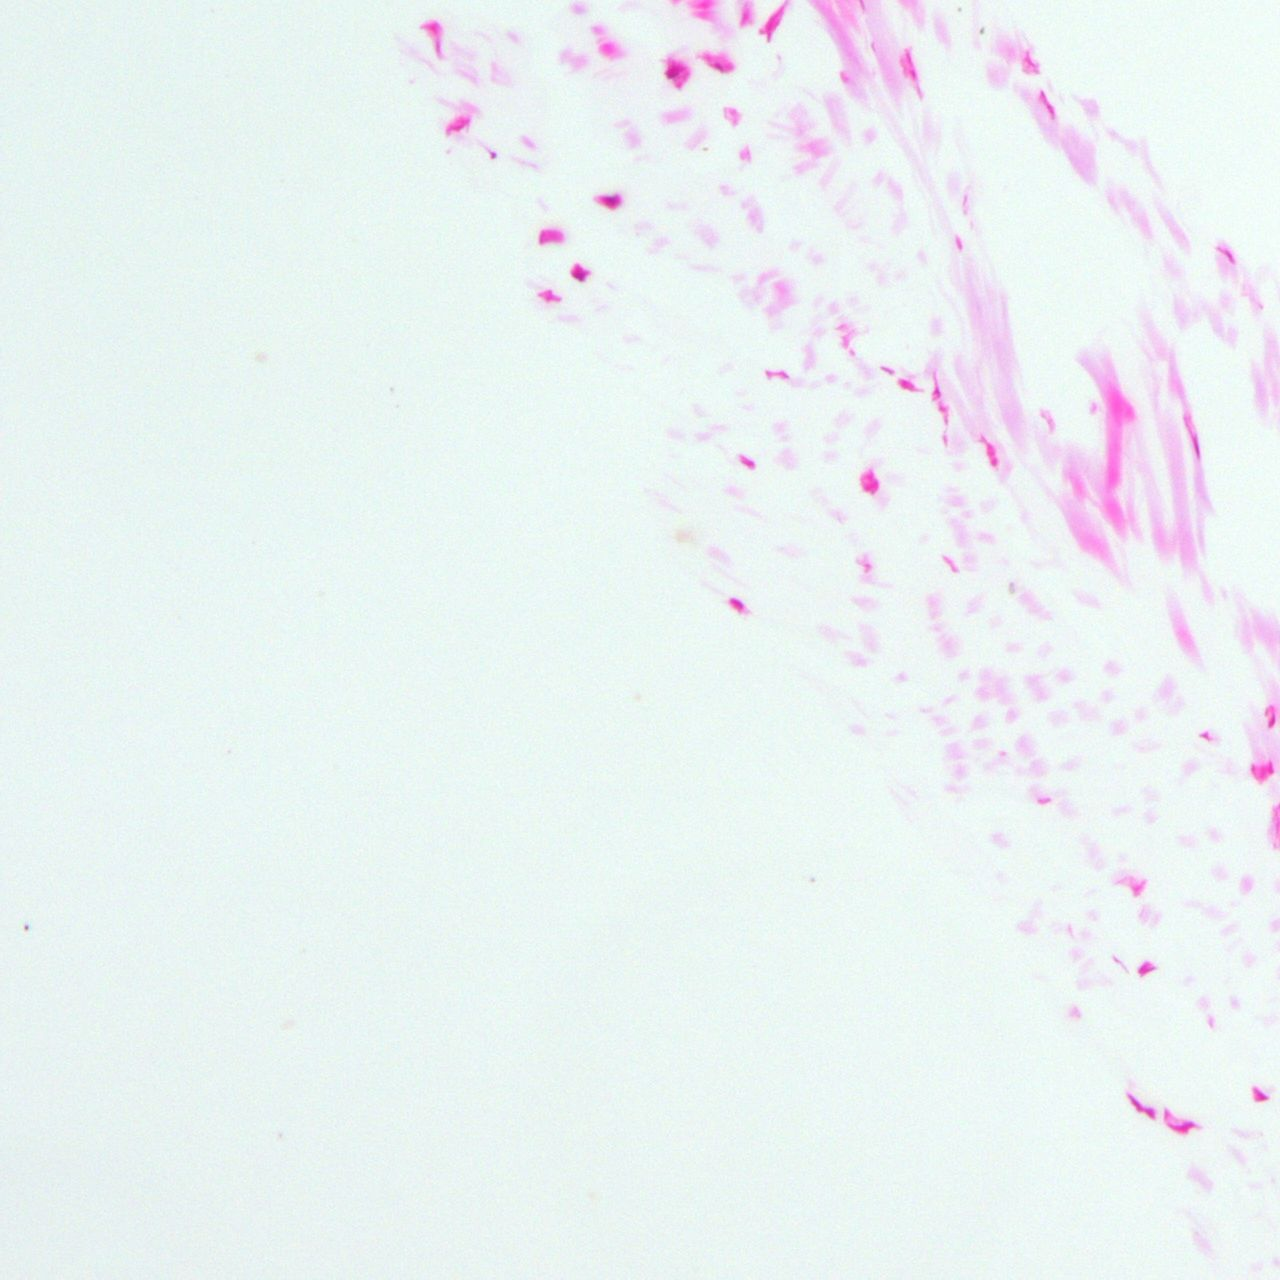dust: (979, 27, 983, 35), (702, 147, 708, 151), (956, 6, 961, 11)
nucleus-FG: (760, 2, 787, 43), (1122, 1095, 1156, 1118), (901, 46, 921, 86), (1039, 89, 1056, 117), (1217, 244, 1235, 263), (1165, 1122, 1198, 1132), (597, 195, 619, 210), (445, 120, 469, 134), (537, 290, 561, 302), (862, 479, 880, 495), (1190, 434, 1201, 457), (738, 454, 755, 469), (1252, 1087, 1268, 1102), (1022, 50, 1036, 68), (728, 595, 745, 610), (764, 370, 789, 380), (571, 271, 588, 282), (1139, 965, 1155, 976), (662, 70, 680, 80), (434, 39, 442, 57), (879, 365, 893, 375), (1138, 962, 1151, 973), (934, 381, 941, 400), (1268, 713, 1276, 728), (986, 441, 994, 455), (537, 231, 545, 244), (1250, 763, 1257, 777), (714, 64, 723, 73), (900, 377, 907, 388), (1198, 731, 1208, 738), (1268, 761, 1273, 776), (489, 151, 497, 158), (427, 25, 436, 30), (990, 459, 998, 467)
